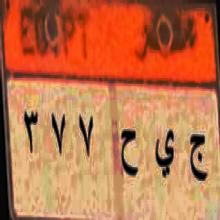3: (24, 105, 39, 158)
7: (77, 110, 95, 163), (50, 105, 66, 159)
7aa: (119, 121, 139, 185)
jeem: (188, 128, 209, 190)
yaa: (154, 126, 177, 184)
